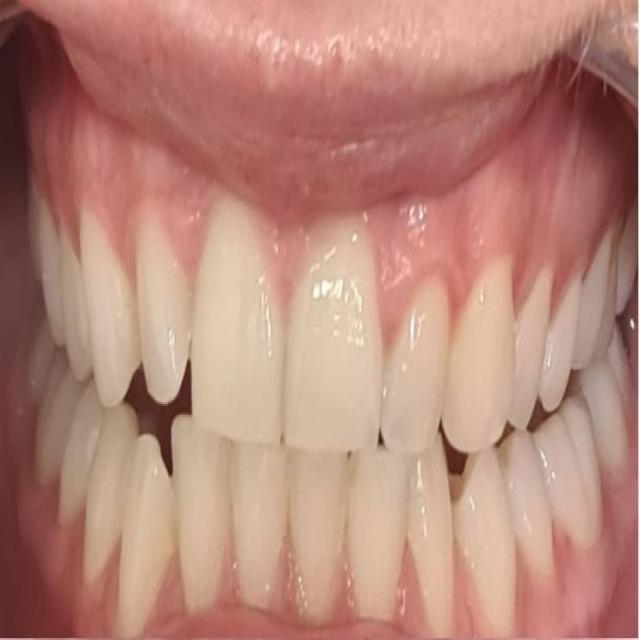1st Molar: (533, 400, 603, 555), (35, 350, 83, 485), (573, 227, 620, 363)
1st Premolar: (453, 450, 518, 640), (84, 406, 138, 592), (512, 267, 554, 426), (60, 228, 92, 380)
2nd Molar: (582, 332, 637, 475), (619, 197, 638, 308), (30, 330, 55, 398)
2nd Premolar: (506, 432, 556, 590), (58, 382, 104, 533), (541, 280, 581, 413), (38, 198, 61, 339)
Canine: (442, 256, 515, 456), (117, 431, 176, 638), (79, 212, 139, 408), (406, 433, 456, 637)
Central Incisor: (191, 196, 287, 444), (283, 219, 382, 452), (289, 454, 351, 622), (230, 446, 288, 610)
Lateral Incisor: (380, 271, 452, 454), (171, 415, 231, 619), (136, 216, 191, 406), (350, 454, 407, 622)
